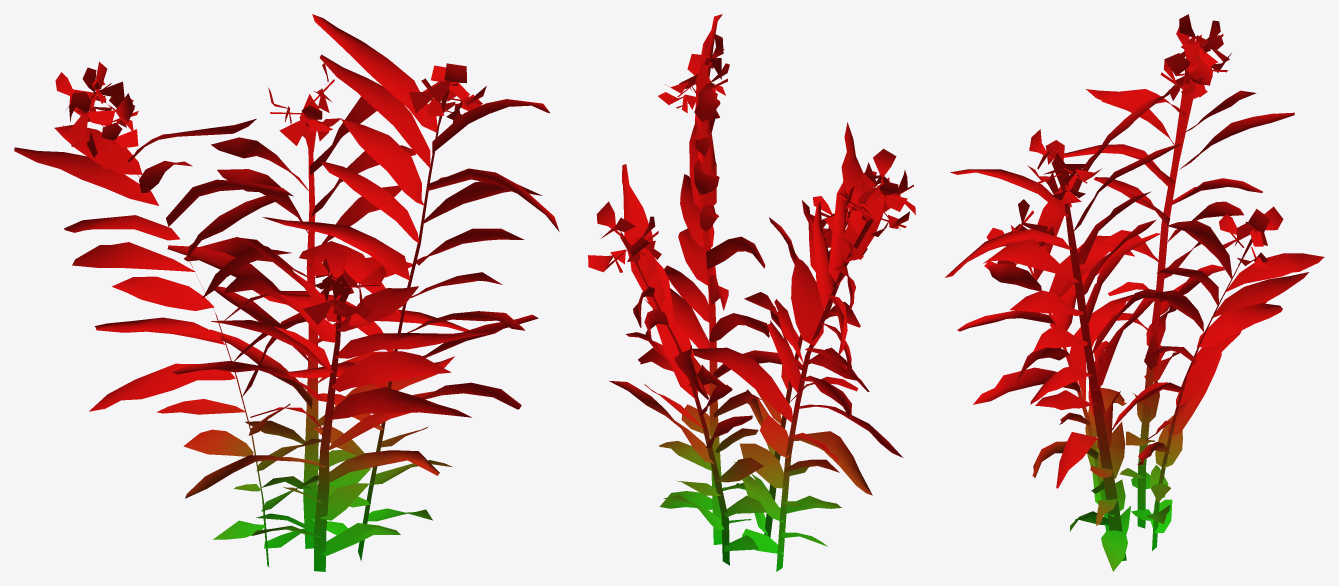
Rendered from Var1_LOD3.fbx.
3 renders of one model, left to right at view 1: azimuth 30°, elevation 25°; view 2: azimuth 150°, elevation 25°; view 3: azimuth 270°, elevation 25°, orthographic. The views are drawn at different scales.
Visible parts, largest first — view 1: _3a1a_Var1_LOD3; view 2: _3a1a_Var1_LOD3; view 3: _3a1a_Var1_LOD3.
Part boxes in pixels (<box>): _3a1a_Var1_LOD3: <box>14,14,559,571</box>; _3a1a_Var1_LOD3: <box>588,14,915,571</box>; _3a1a_Var1_LOD3: <box>945,14,1324,571</box>.
Bounding box in the file's own units: 104 × 136 × 102.
